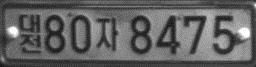0: (70, 13, 92, 54)
4: (155, 14, 180, 54)
5: (211, 14, 234, 54)
7: (182, 14, 206, 54)
8: (129, 14, 152, 54), (44, 13, 66, 53)
대전_V: (19, 13, 43, 55)
자: (95, 17, 119, 52)
